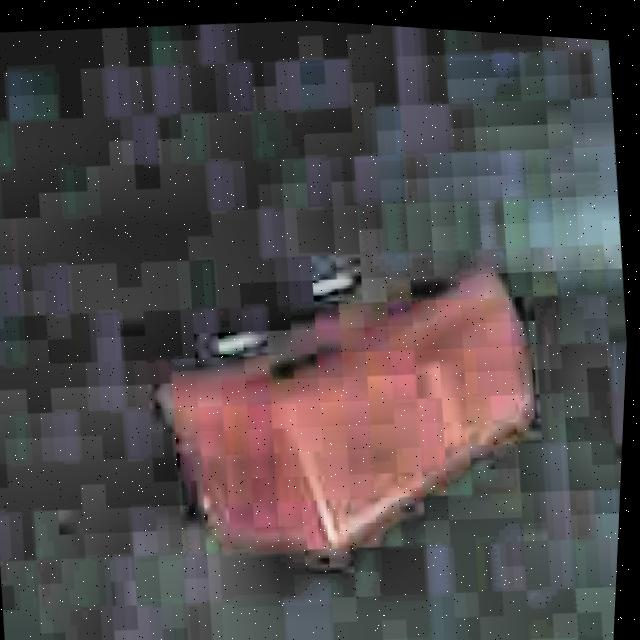bus: (139, 223, 572, 604)
